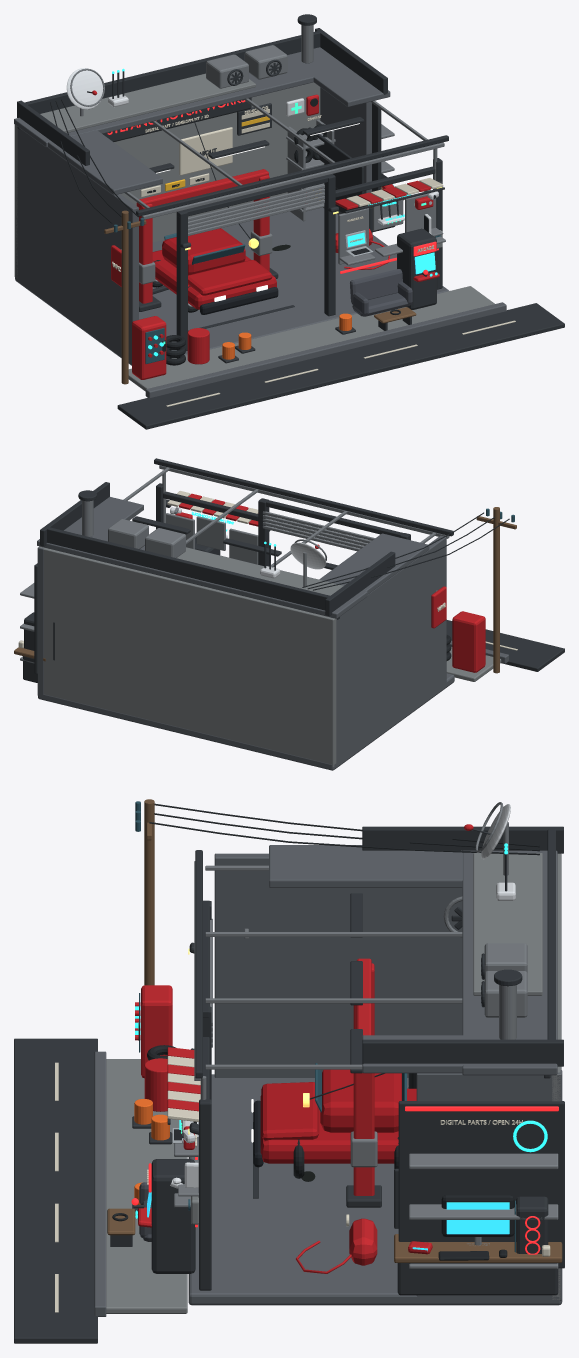
Rendered from stefano-motor-works.glb.
The picture shows the model from 3 angles, top to bottom: view 1: azimuth 30°, elevation 25°; view 2: azimuth 150°, elevation 25°; view 3: azimuth 270°, elevation 25°; orthographic projection. The views are drawn at different scales.
Parts seen in each view (by area): view 1: ARCH_LeftWall, EXT_Road, ARCH_Floor, ARCH_BackWall, EXT_ServiceApron, ROOF_ServicePad, ARCH_RoofBackSlab, EXT_Curb, ARCH_RoofLeftWing, ARCH_ParapetBack, ARCH_RightReturn, ARCH_RoofBeamFront (+39 smaller); view 2: ARCH_BackWall, ARCH_LeftWall, ARCH_ParapetBack, ARCH_Floor, ARCH_RoofLeftWing, ARCH_RoofBackSlab, ARCH_RoofBeamFront, ROOF_ServicePad, EXT_VendingMachine, EXT_Road, ARCH_RoofRightWing, ARCH_ParapetSide_-6.75 (+21 smaller); view 3: ARCH_LeftWall, ARCH_Floor, EXT_Road, EXT_TechWall, EXT_ServiceApron, ARCH_RoofLeftWing, ROOF_ServicePad, ARCH_RoofBackSlab, ARCH_ParapetSide_+6.75, WORK_BenchFrame, ARCH_RightReturn, INT_Arcade_Playground (+35 smaller).
Boxes of the visible parts, x1,y1,x2,y2 form: ARCH_LeftWall: (16, 129, 138, 360); EXT_Road: (117, 303, 564, 429); ARCH_Floor: (15, 207, 448, 365); ARCH_BackWall: (14, 82, 320, 278); EXT_ServiceApron: (128, 286, 494, 391); ROOF_ServicePad: (40, 73, 255, 133); ARCH_RoofBackSlab: (14, 47, 347, 147); EXT_Curb: (145, 302, 506, 397); ARCH_RoofLeftWing: (48, 130, 162, 195); ARCH_ParapetBack: (24, 30, 323, 113); ARCH_RightReturn: (320, 87, 372, 234); ARCH_RoofBeamFront: (136, 135, 448, 216); ARCH_BackWall: (39, 546, 336, 767); ARCH_LeftWall: (329, 535, 446, 762); ARCH_ParapetBack: (43, 526, 333, 610); ARCH_Floor: (38, 673, 454, 770); ARCH_RoofLeftWing: (319, 533, 429, 594); ARCH_RoofBackSlab: (37, 521, 367, 618); ARCH_RoofBeamFront: (154, 458, 453, 536); ROOF_ServicePad: (176, 547, 343, 595); EXT_VendingMachine: (452, 611, 485, 672); EXT_Road: (446, 620, 564, 671); ARCH_RoofRightWing: (67, 497, 143, 537); ARCH_ParapetSide_-6.75: (325, 551, 395, 615); ARCH_LeftWall: (214, 853, 462, 1077); ARCH_Floor: (188, 1074, 562, 1305); EXT_Road: (14, 1038, 97, 1343); EXT_TechWall: (398, 1101, 564, 1268); EXT_ServiceApron: (106, 1059, 187, 1313); ARCH_RoofLeftWing: (269, 845, 462, 887); ROOF_ServicePad: (473, 853, 542, 995); ARCH_RoofBackSlab: (462, 850, 557, 1075); ARCH_ParapetSide_+6.75: (362, 1039, 563, 1066); WORK_BenchFrame: (397, 1263, 558, 1295); ARCH_RightReturn: (416, 1070, 562, 1300); INT_Arcade_Playground: (151, 1159, 195, 1273).
Size of the model in its own units: 19 by 9.31 by 14.75.
